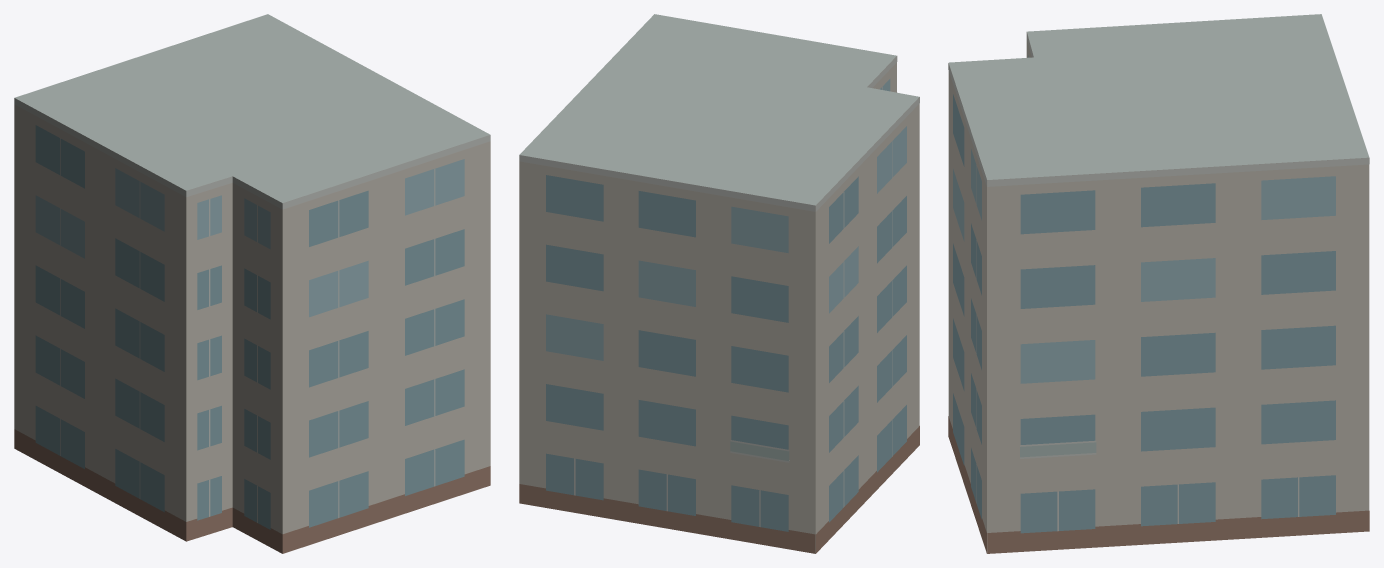
File: survey-upis-32933498.glb
3 renders of one model, left to right at view 1: azimuth 30°, elevation 25°; view 2: azimuth 150°, elevation 25°; view 3: azimuth 270°, elevation 25°, orthographic. The views are drawn at different scales.
Parts seen in each view (by area): view 1: survey-upis-32933498.tmp; view 2: survey-upis-32933498.tmp; view 3: survey-upis-32933498.tmp.
Boxes of the visible parts, box(x1,y1,x2,y2) form: survey-upis-32933498.tmp: box(14, 14, 490, 553); survey-upis-32933498.tmp: box(519, 14, 919, 553); survey-upis-32933498.tmp: box(948, 14, 1369, 553).
Bounding box in the file's own units: 12.69 × 13.3 × 13.59.
